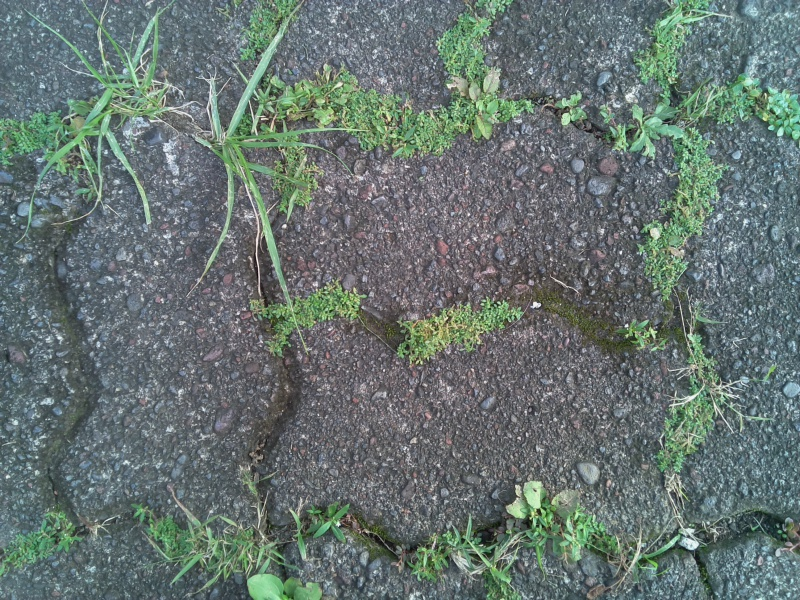Weed: (58, 42, 172, 189), (206, 53, 300, 225), (660, 334, 754, 502), (659, 328, 748, 503), (644, 127, 727, 303), (394, 289, 529, 372), (346, 74, 448, 170), (574, 510, 679, 588), (248, 285, 364, 353), (178, 503, 282, 577), (429, 1, 524, 77), (636, 3, 714, 91), (498, 477, 580, 559), (266, 132, 335, 220), (269, 66, 351, 139), (229, 1, 309, 72), (400, 518, 488, 580), (131, 489, 191, 575), (2, 510, 74, 576), (1, 109, 74, 173), (450, 73, 511, 146), (682, 78, 754, 130), (289, 498, 357, 553), (620, 99, 678, 158), (615, 315, 662, 353), (549, 88, 590, 128), (77, 506, 121, 540)
